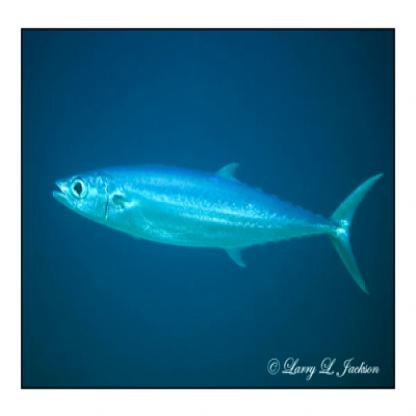Scombridae -Tunas-: (48, 151, 386, 303)
